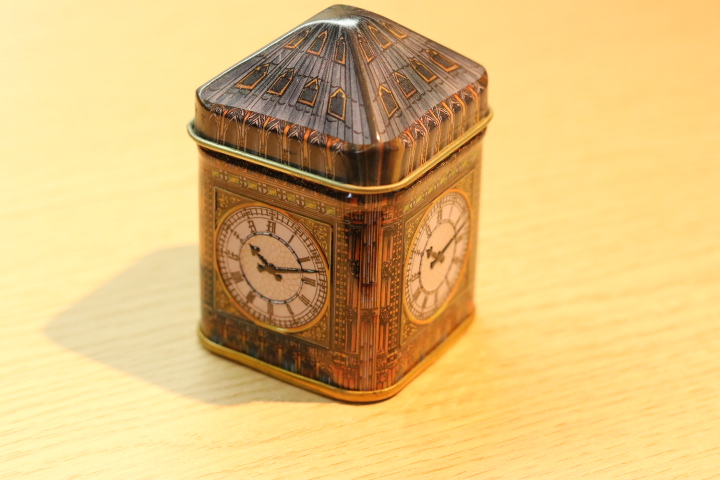Big Ben: (182, 1, 502, 417)
